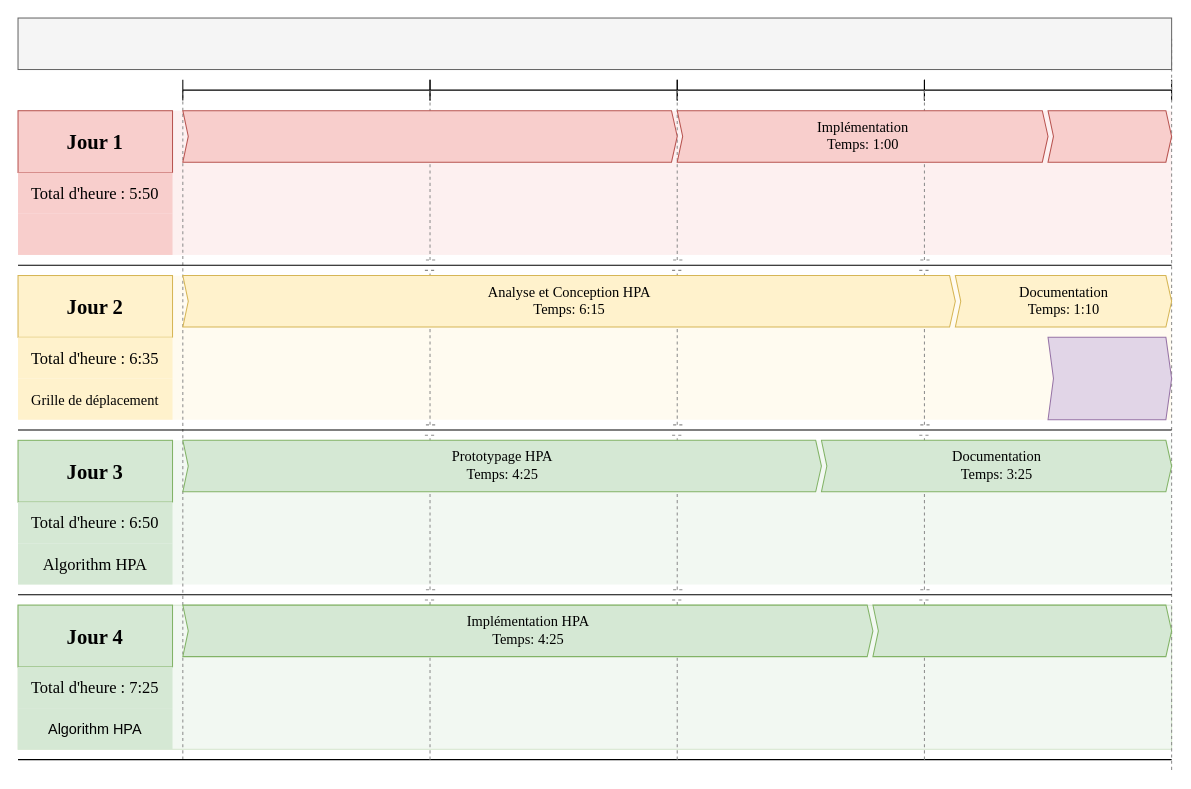
Some shapes in this 1191 by 789 pixel diagram are drawn without their labels. Each missing label, with the centre of its shape:
Creation d'entités ennemi: point 95,233
Documentation Temps: 2:25: point 429,136
Documentation Temps: 3:00: point 1022,630
Entretien CDP Temps: 0:35: point 1109,136
Rendez-vous Expert 2 Temps: 30m: point 1109,378
Semaine 3 (16.05.2022 - 19.05.2022): Pathfinding HPA: point 594,43
